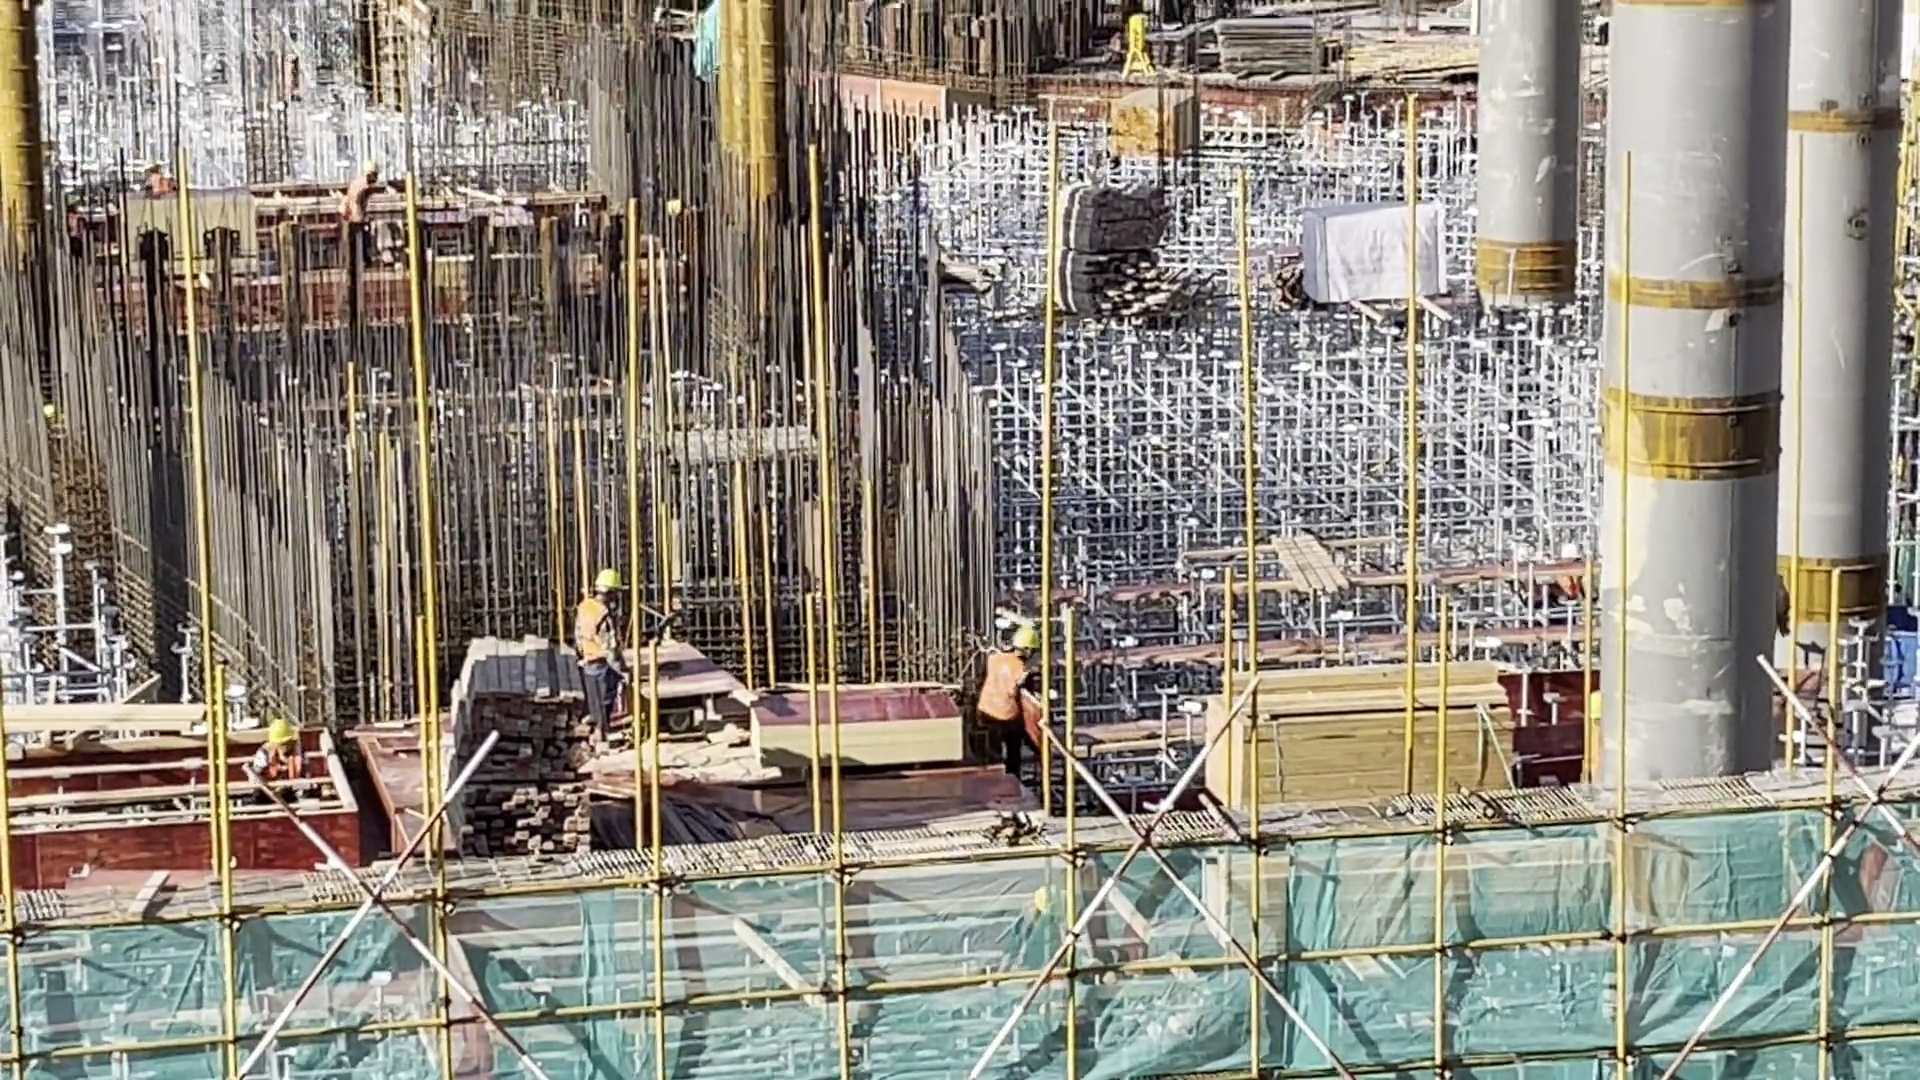helmet: (975, 653, 1034, 723), (572, 591, 619, 672), (256, 717, 303, 753), (586, 557, 622, 600), (1002, 624, 1039, 664)
person: (560, 552, 632, 739), (967, 620, 1038, 805), (240, 713, 308, 791)
